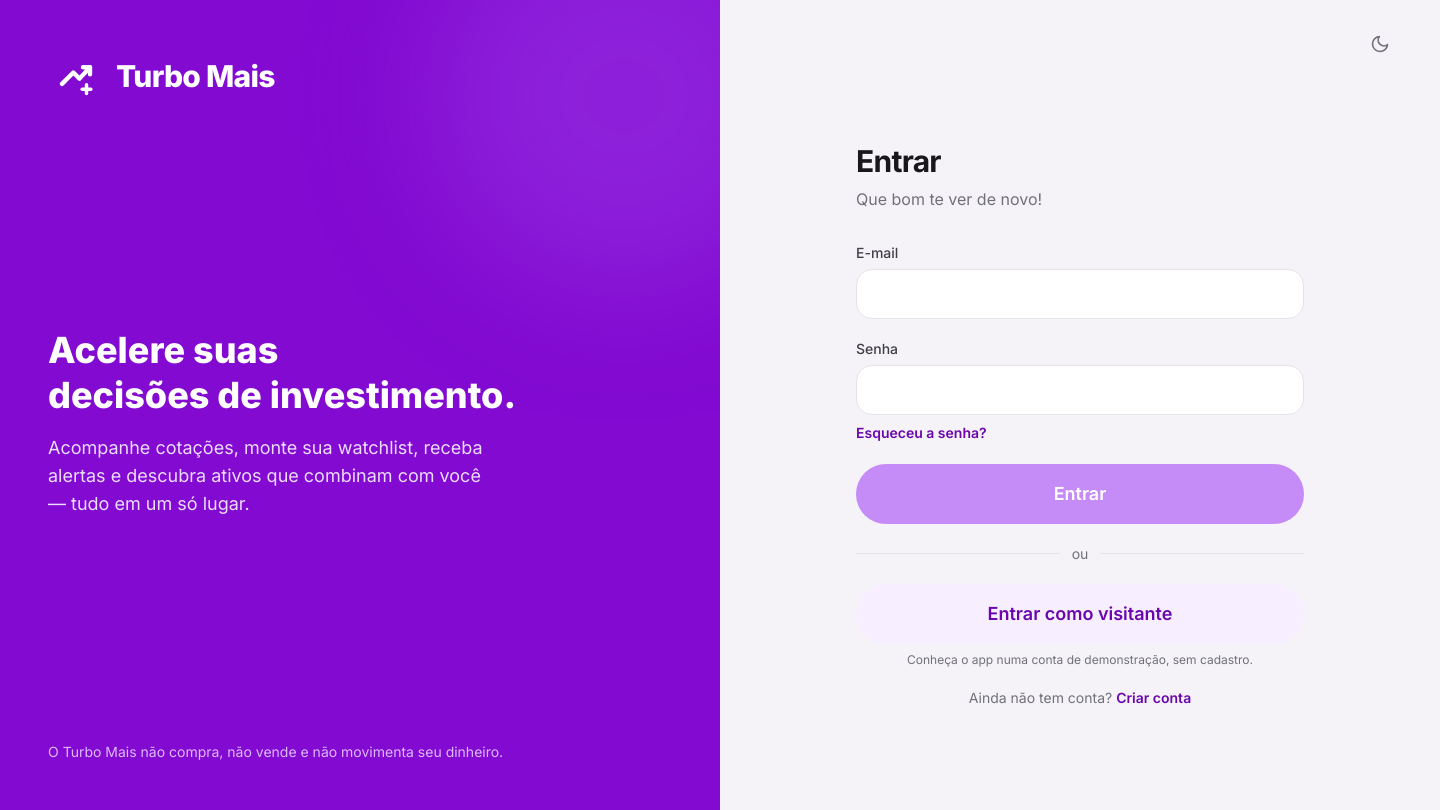
Test case: Login › mostra o erro se o acesso de visitante estiver indisponível
What coordinates should you click on to do the following:
click the button "Entrar como visitante"
I would click on:
 (1080, 614)
Its box is [856, 584, 1304, 644].
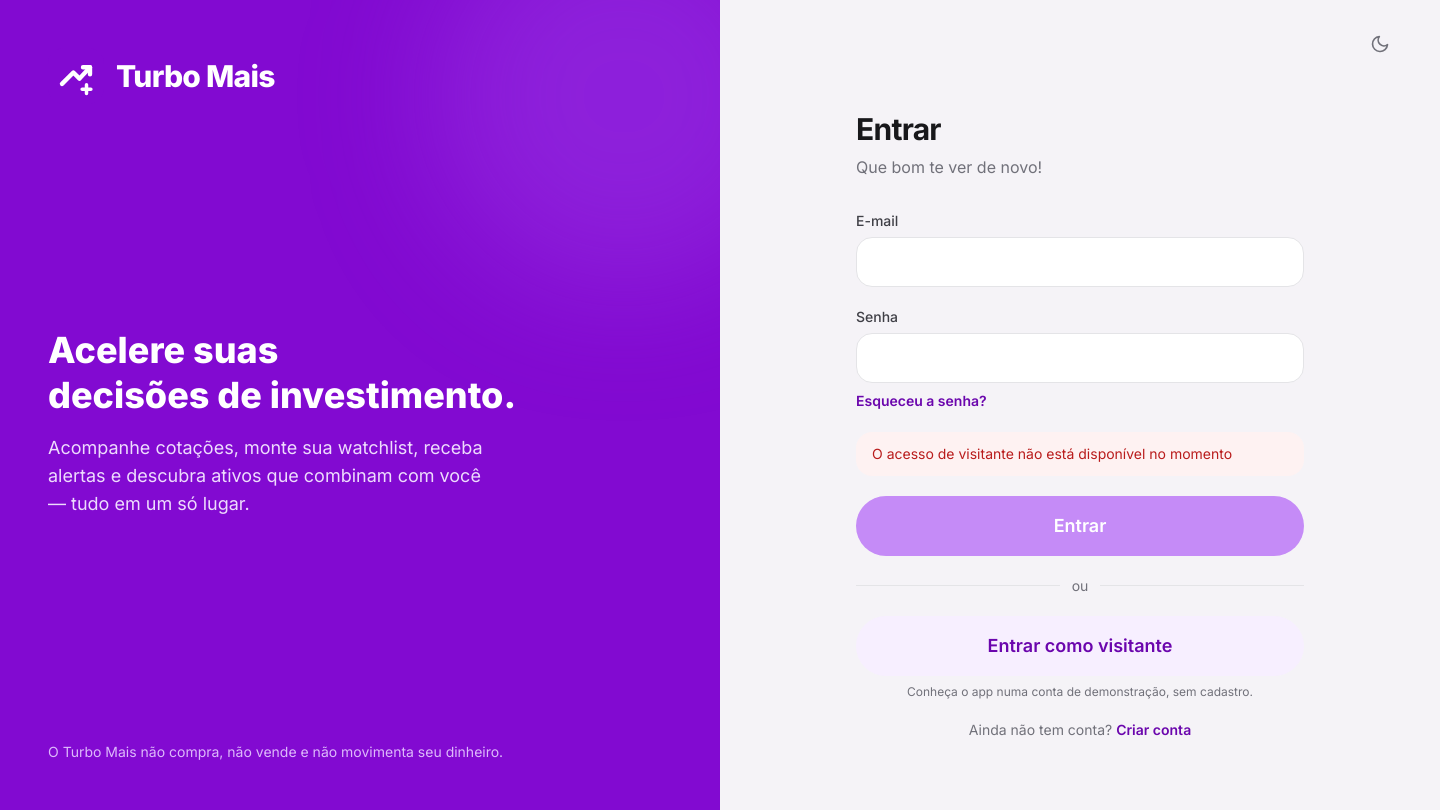
expect the message shows "visitante não está disponível": met, box [872, 444, 1232, 462]
